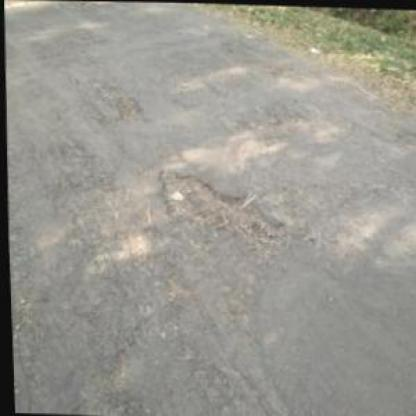pothole: (154, 164, 294, 244), (96, 84, 144, 124)
